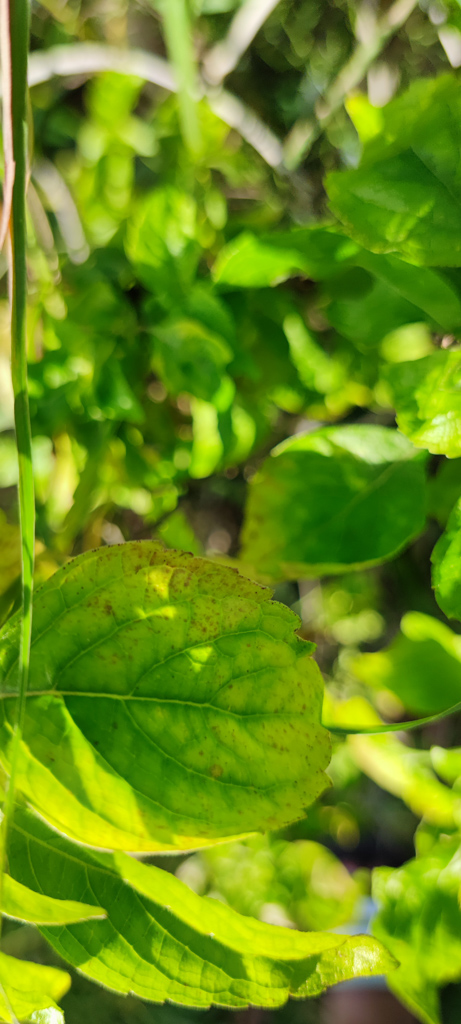Rust: (56, 538, 286, 675)
